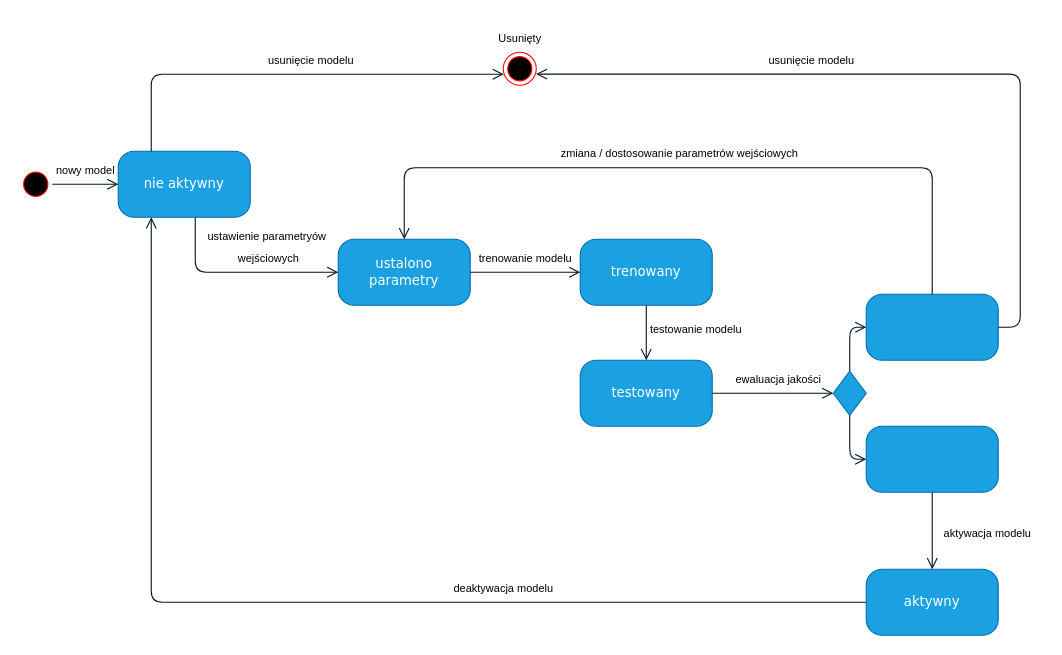
Some shapes in this 1062 by 655 pixel diagram are drawn without their labels. The shapes that lost their labels are listed below. From the top down, each one's box as (x1, y1, x2, y2) in pixels, then its label:
(865, 293, 998, 360): słaba jakość klasyfikacji
(865, 425, 998, 492): dobra jakość klasyfikacji
